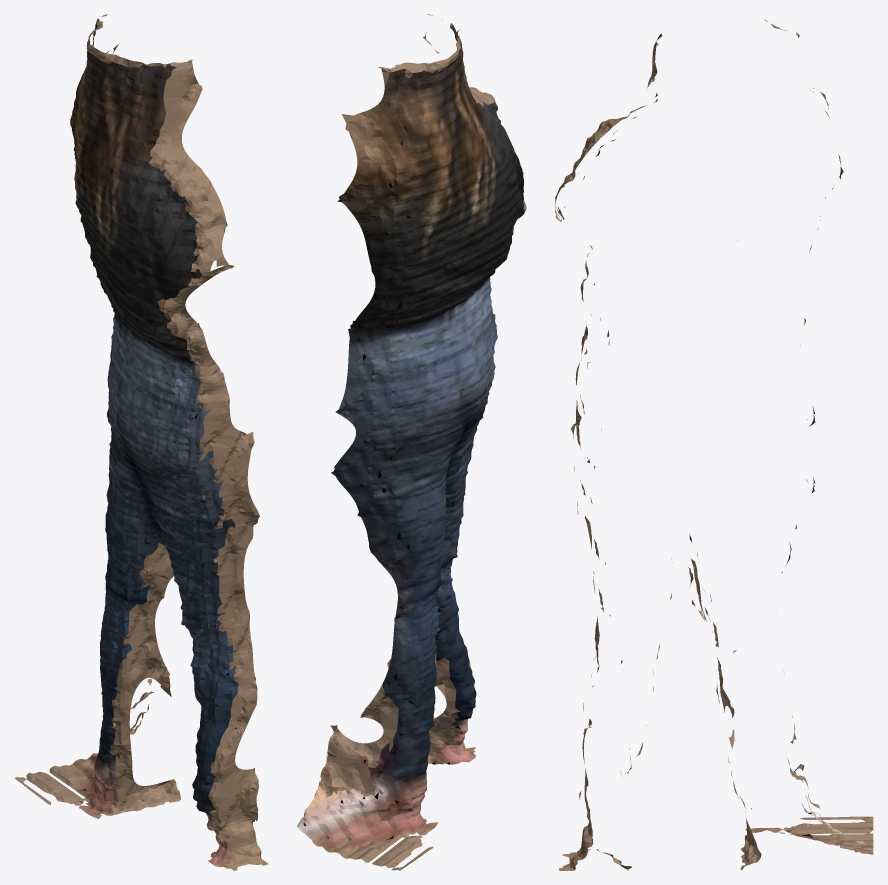
3 views of the same model, side by side, from view 1: azimuth 30°, elevation 25°; view 2: azimuth 150°, elevation 25°; view 3: azimuth 270°, elevation 25° (orthographic). The views are drawn at different scales.
Bounding box in the file's own units: 0.2016 × 1.44 × 0.5104.
1 material, 1 textured.
